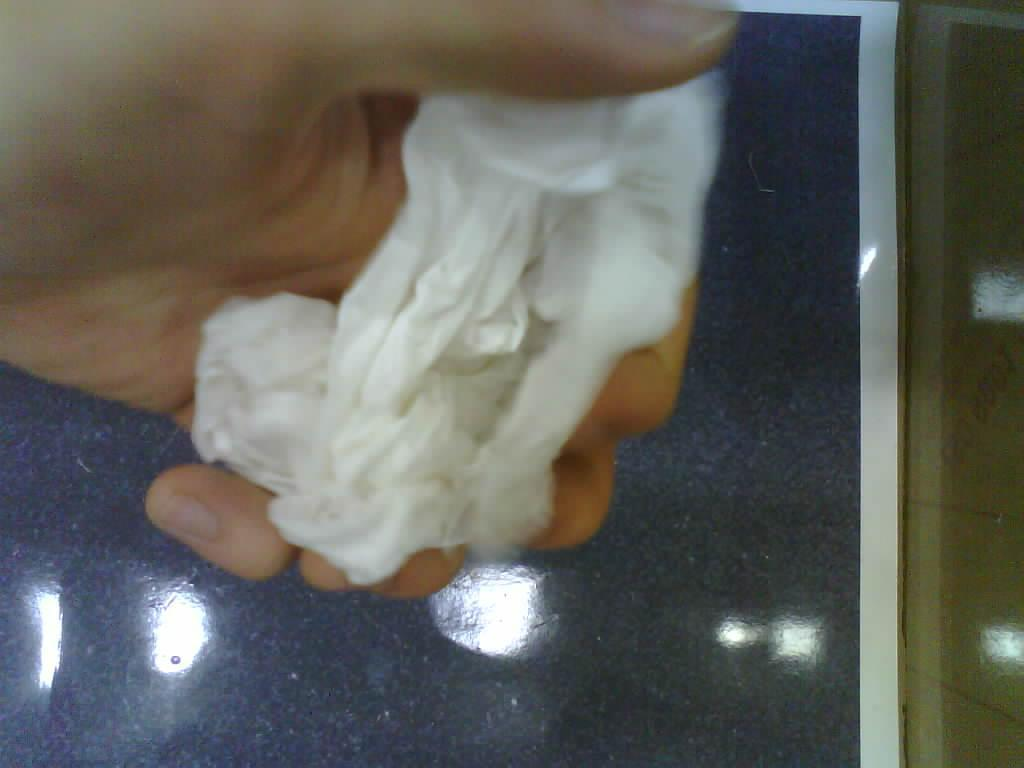paper: (193, 0, 725, 584)
